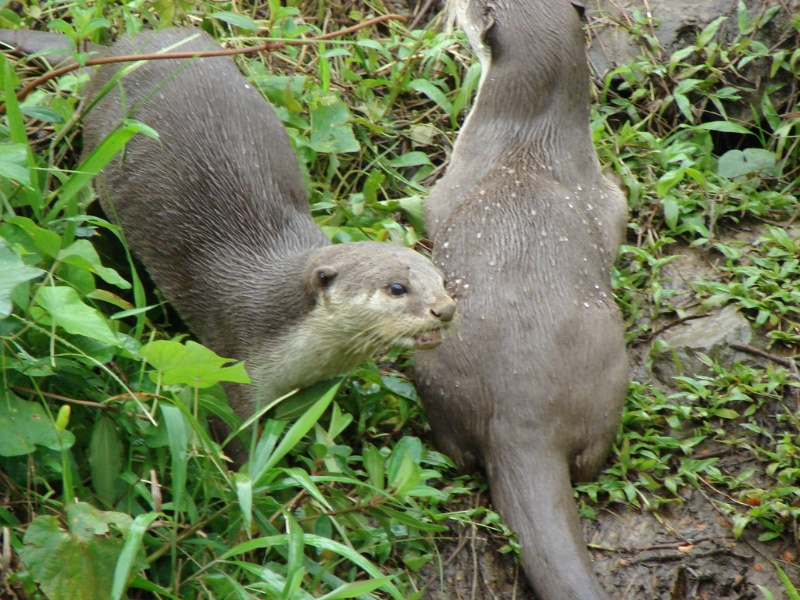minkish: (8, 8, 456, 470), (402, 1, 657, 600)
